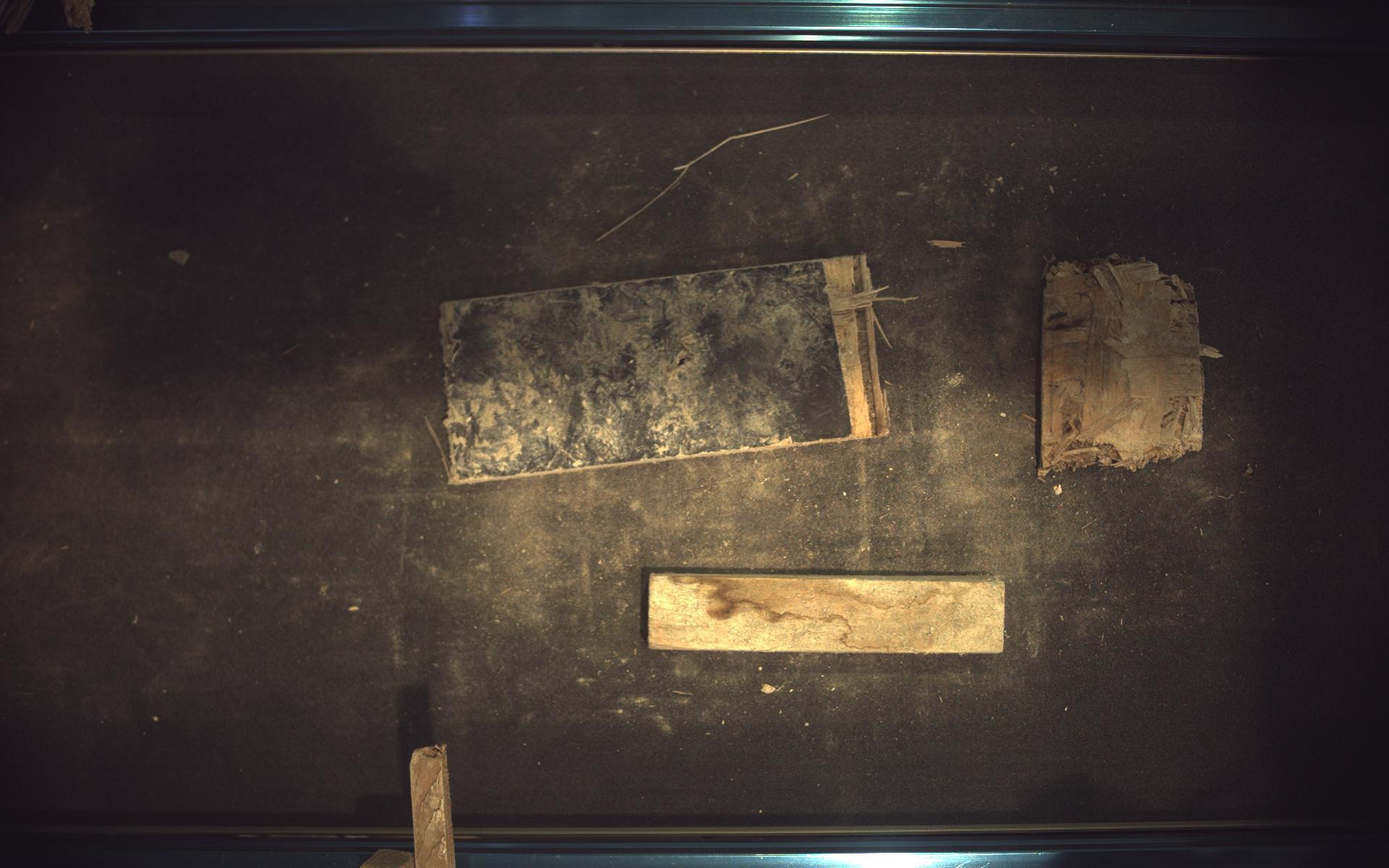wood: (441, 254, 891, 484), (649, 574, 1007, 655)
